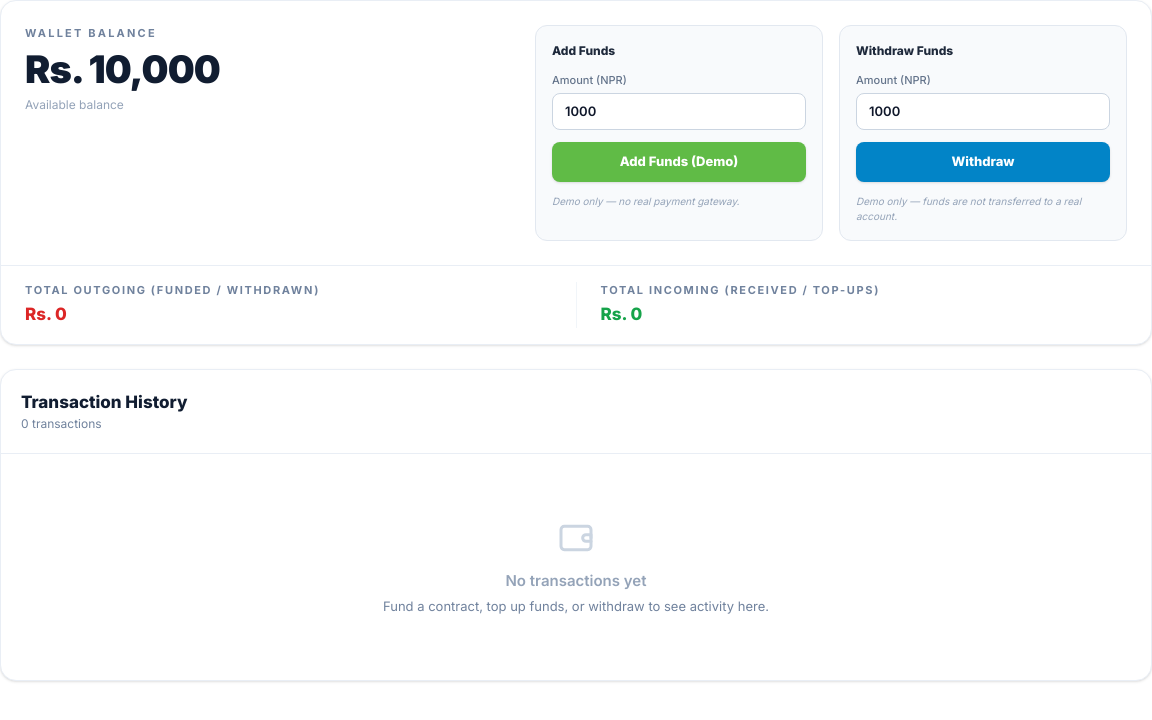
Test: WalletPanel Component Tests › rejects withdrawal amount over current balance with an error message shown
Expected: the text "10,000" is shown, [88,46,220,92]
Replace the text in the number field with placeholder "Enter amount" below "Withdraw Funds" with "20000" at (983, 111), box [856,92,1110,130]
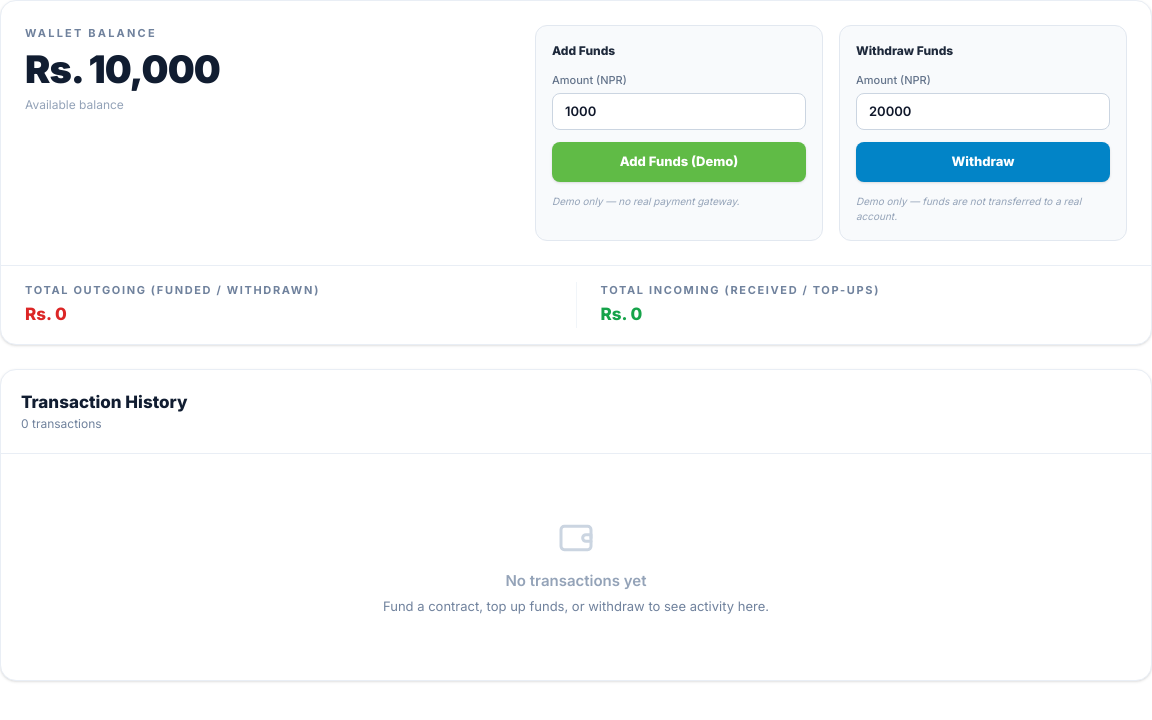
Submit the form with placeholder "Enter amount", box [856,72,1110,224]
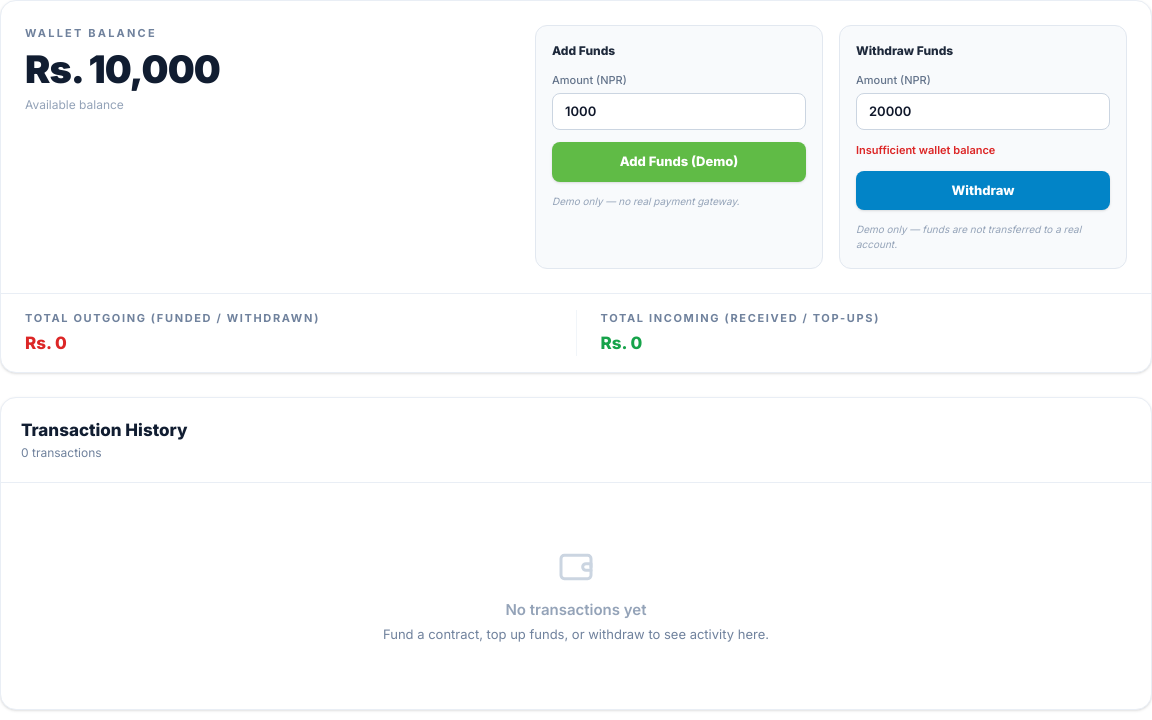
Now the text "Insufficient wallet balance" is shown, box [856,143,995,157]
